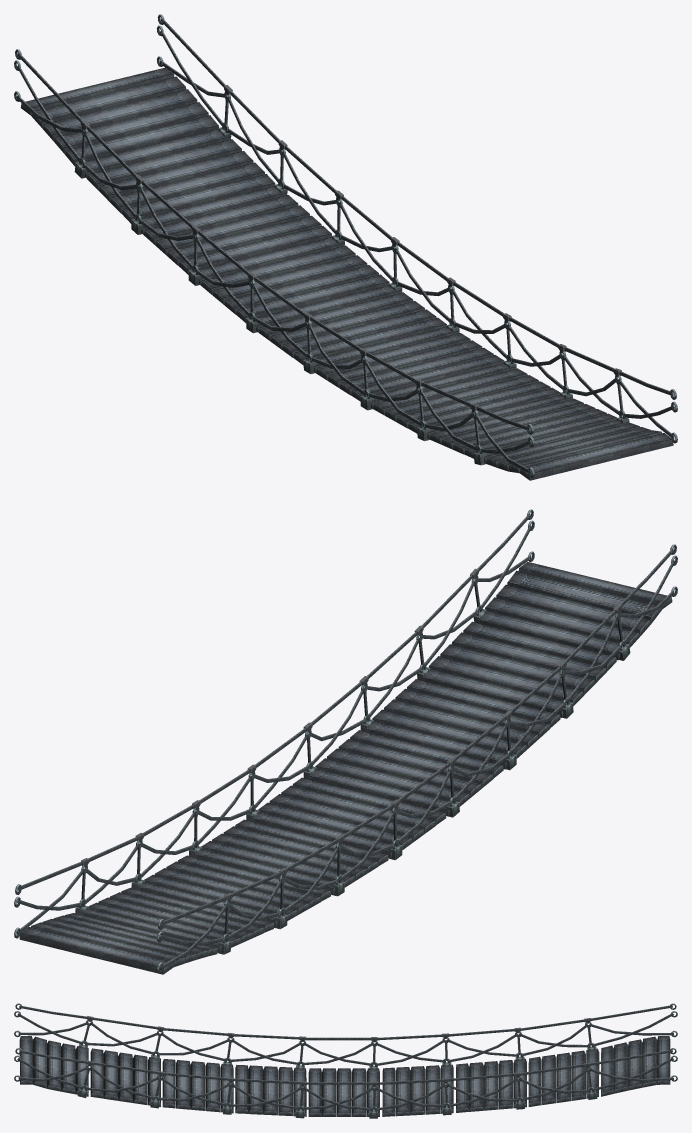
Rendered from steel_bridge_body.glb.
3 renders of one model, top to bottom at view 1: azimuth 30°, elevation 25°; view 2: azimuth 150°, elevation 25°; view 3: azimuth 270°, elevation 25°, orthographic. The views are drawn at different scales.
Visible parts, largest first — view 1: steel_bridge_body; view 2: steel_bridge_body; view 3: steel_bridge_body.
Boxes of the visible parts, <box> form: steel_bridge_body: <box>14,14,677,480</box>; steel_bridge_body: <box>14,509,677,974</box>; steel_bridge_body: <box>14,1003,677,1118</box>.
Size of the model in its own units: 11.42 by 7.99 by 68.78.
1 material, 1 textured.
